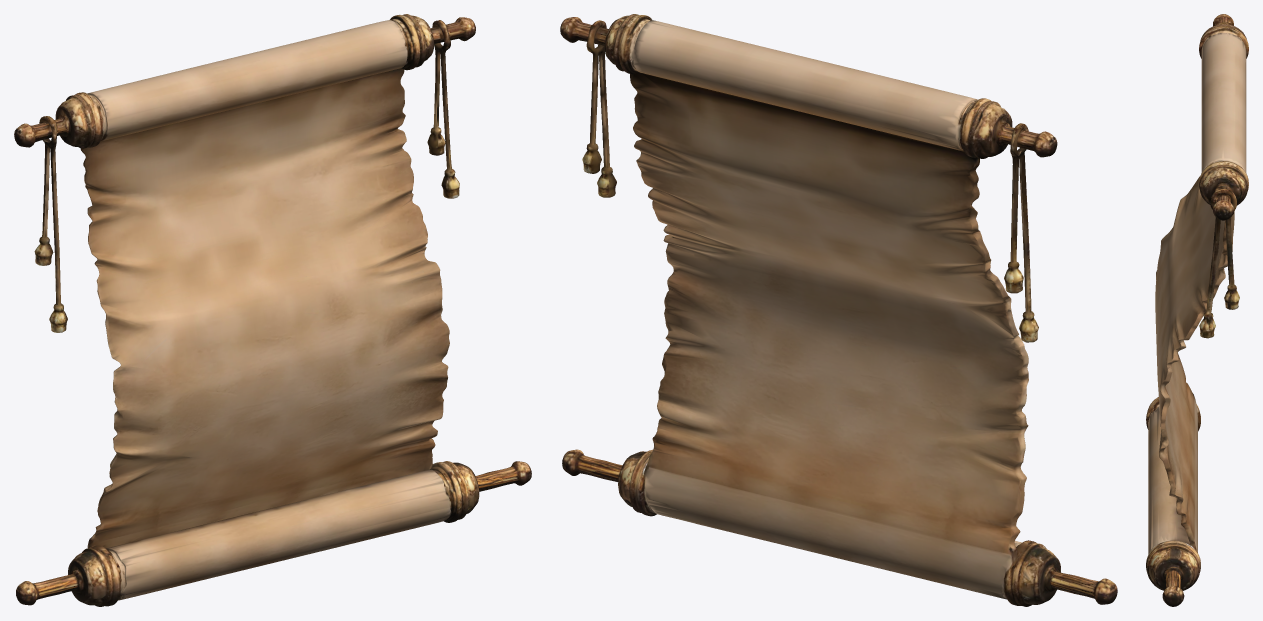
Rendered from scroll.glb.
3 renders of one model, left to right at view 1: azimuth 30°, elevation 25°; view 2: azimuth 150°, elevation 25°; view 3: azimuth 270°, elevation 25°, orthographic. The views are drawn at different scales.
Visible parts, largest first — view 1: material; view 2: material; view 3: material.
Boxes of the visible parts, x1,y1,x2,y2 form: material: (14, 14, 531, 606); material: (560, 14, 1117, 606); material: (1146, 14, 1248, 606).
Size of the model in its own units: 0.9252 by 0.8399 by 0.1853.
1 material, 1 textured.
